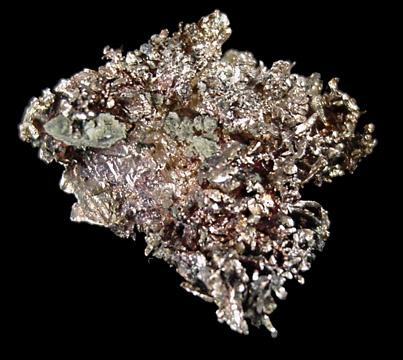silver: (19, 11, 376, 339)
